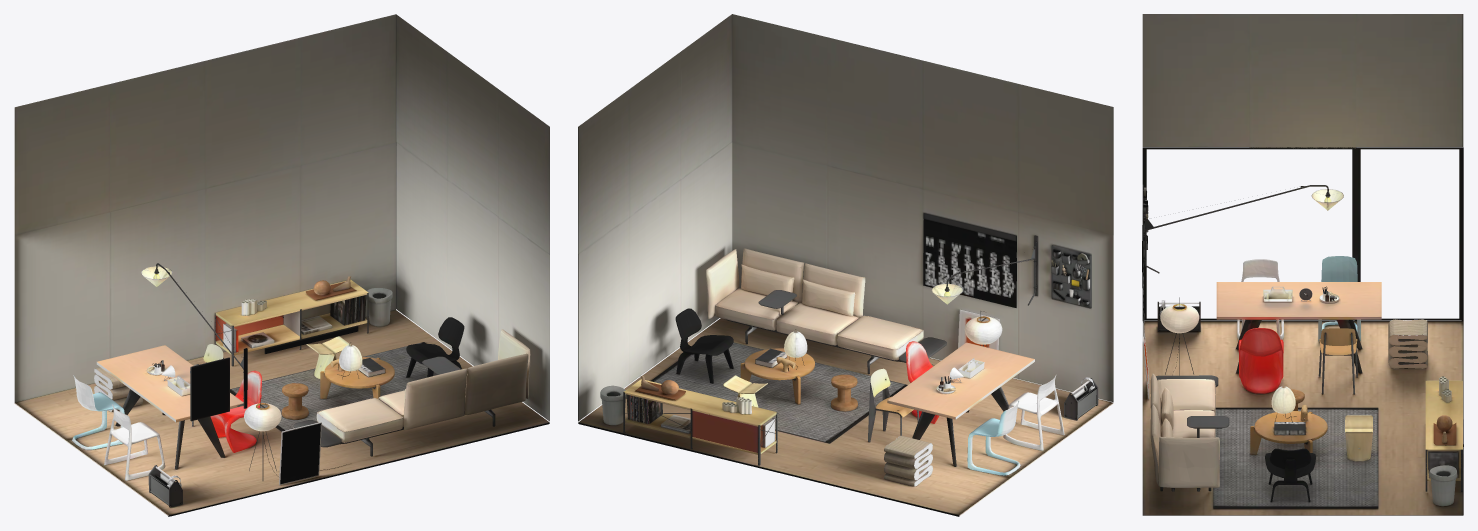
The model's file is compressed_alt3.glb.
The picture shows the model from 3 angles, left to right: view 1: azimuth 30°, elevation 25°; view 2: azimuth 150°, elevation 25°; view 3: azimuth 270°, elevation 25°; orthographic projection. The views are drawn at different scales.
Visible parts, largest first — view 1: Fixed Window.011_Baked_Baked; view 2: Fixed Window.011_Baked_Baked; view 3: Fixed Window.011_Baked_Baked.
Boxes of the visible parts, x1,y1,x2,y2 form: Fixed Window.011_Baked_Baked: (14, 14, 549, 516); Fixed Window.011_Baked_Baked: (578, 14, 1113, 516); Fixed Window.011_Baked_Baked: (1142, 14, 1463, 515).
Bounding box in the file's own units: 4.18 × 3.1 × 2.93.
1 material, 1 textured.
